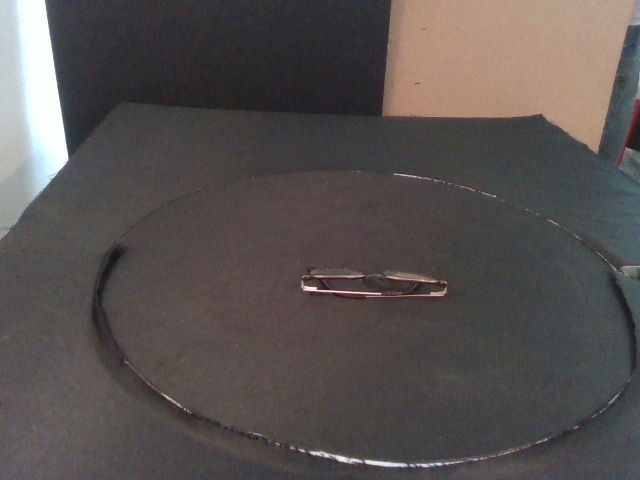glasses: (299, 263, 449, 300)
